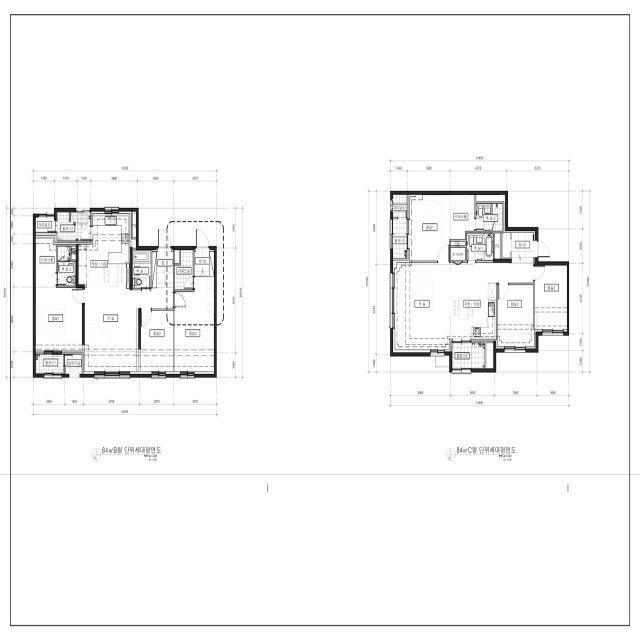space_balconi: (57, 212, 90, 241), (452, 343, 485, 368), (393, 219, 407, 258), (36, 355, 64, 373)
space_bedroom: (175, 276, 214, 372), (410, 195, 449, 261), (498, 285, 534, 347), (535, 266, 567, 330), (141, 311, 173, 372)
space_dressroom: (449, 195, 475, 240), (36, 238, 56, 287)
space_front: (512, 233, 538, 263), (157, 248, 173, 288), (194, 248, 214, 276)
space_kitchen: (78, 214, 130, 288), (451, 283, 496, 339)
space_living_room: (394, 263, 534, 350), (84, 288, 173, 372)
space_multipurpose_space: (36, 287, 82, 351)
space_other: (175, 250, 193, 289), (393, 195, 407, 217), (36, 217, 55, 232), (476, 195, 504, 202), (486, 343, 493, 369), (152, 252, 157, 288), (503, 233, 510, 258), (451, 248, 465, 260), (495, 233, 500, 259), (132, 212, 136, 238), (71, 246, 76, 260), (175, 250, 179, 263), (451, 242, 465, 245)
space_outdoor_room: (65, 354, 82, 374)
space_toilet: (57, 246, 76, 287), (476, 204, 503, 231), (467, 233, 493, 260), (133, 251, 151, 289)
